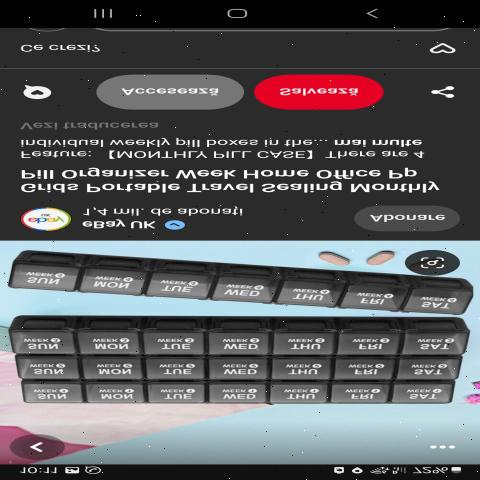PillBox: (9, 316, 480, 419)
